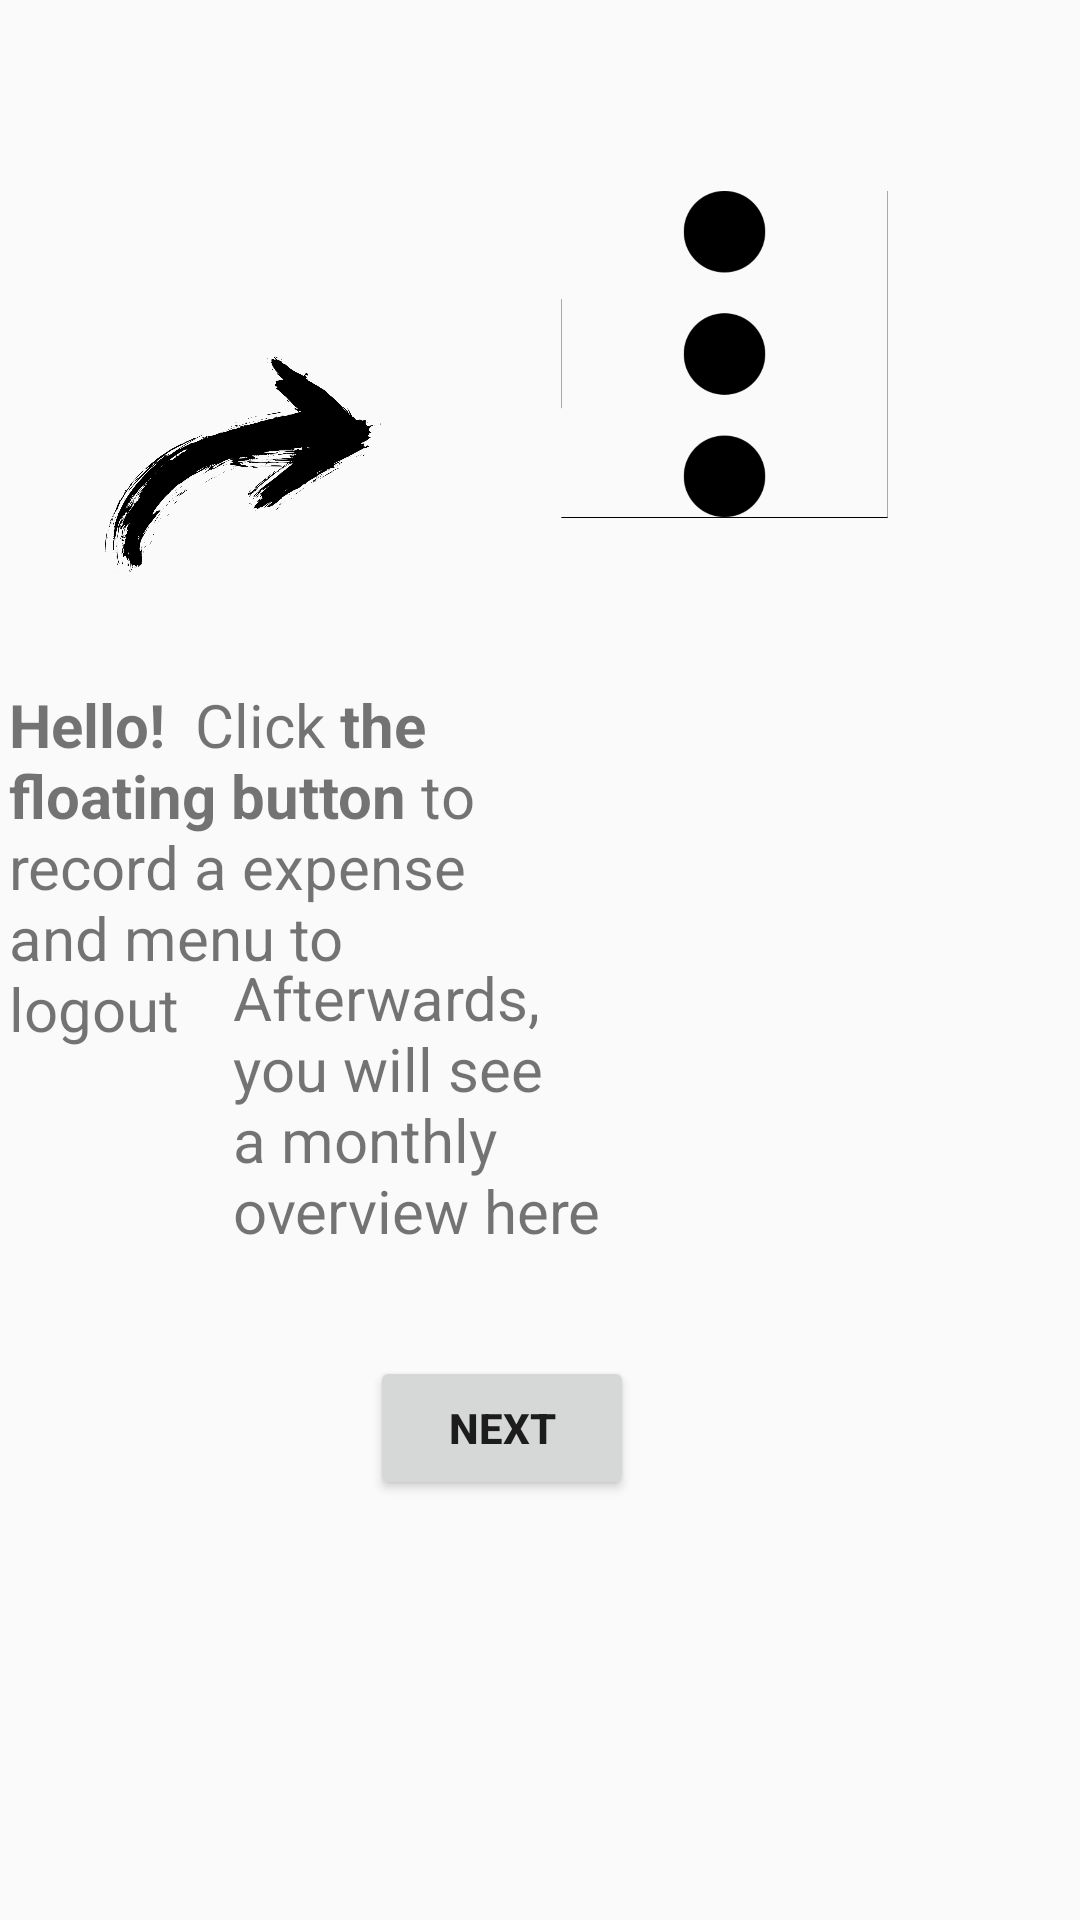

Icons on this 1080px x 1920px Android screen, each with the point to tap as (x,y):
arrow: (243,464)
menu: (724,354)
